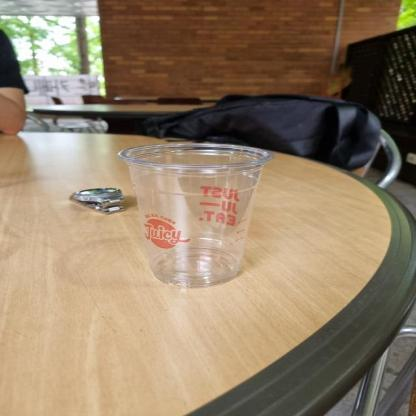Plastic Cup: (119, 140, 269, 290)
